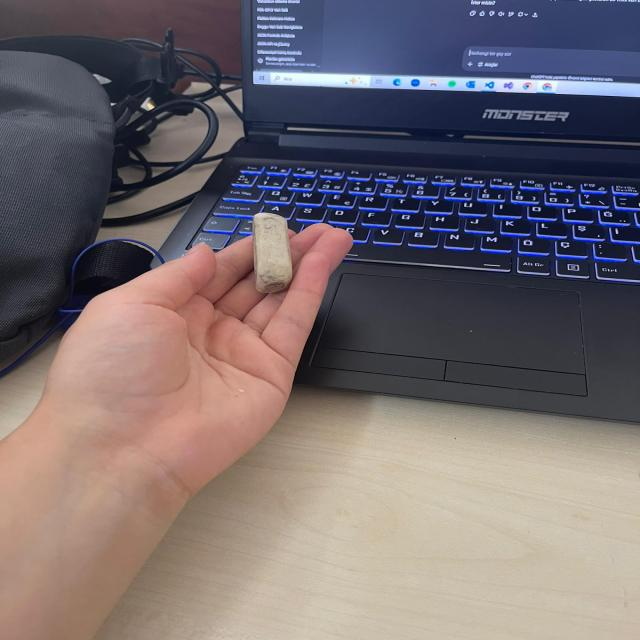eraser: (237, 207, 315, 297)
